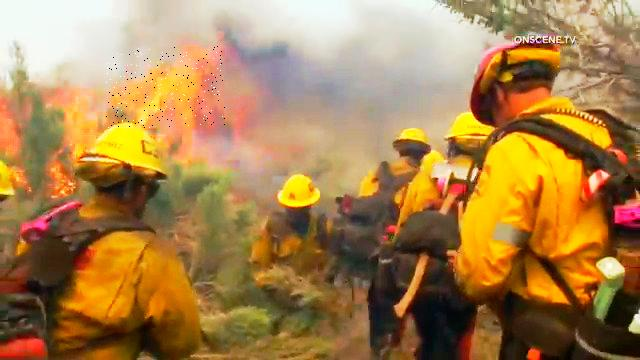fire: (106, 46, 225, 128)
